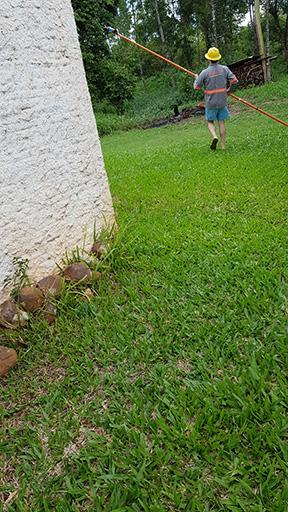Vara_Manobra: (117, 32, 288, 126)
